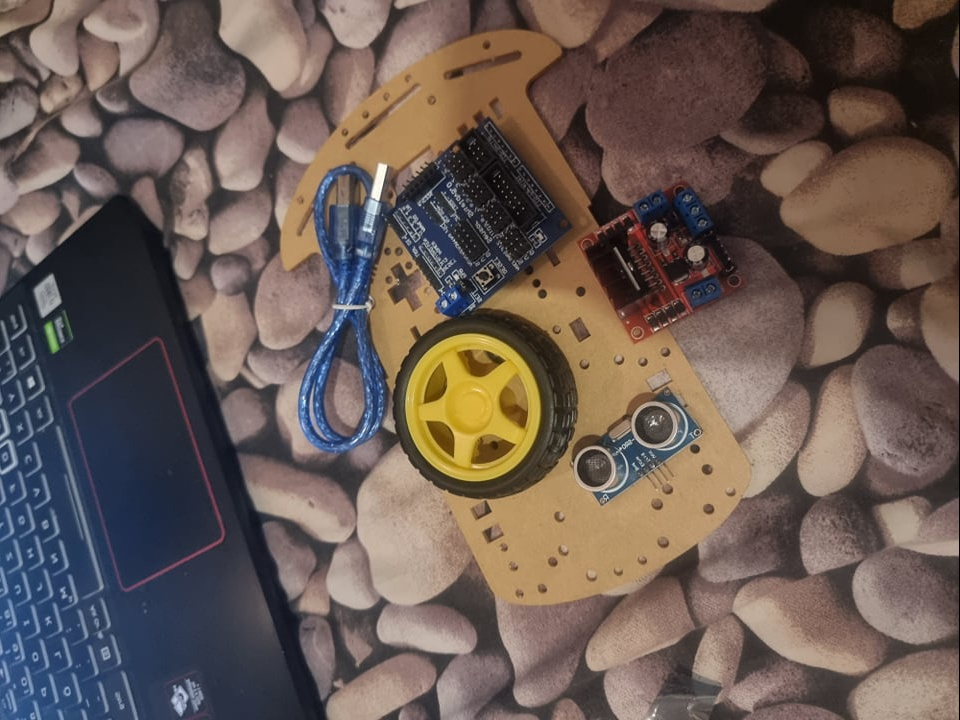5V EXPANSION: (395, 120, 576, 313)
MOTOR: (581, 179, 749, 341)
SENSOR: (573, 390, 700, 499)
